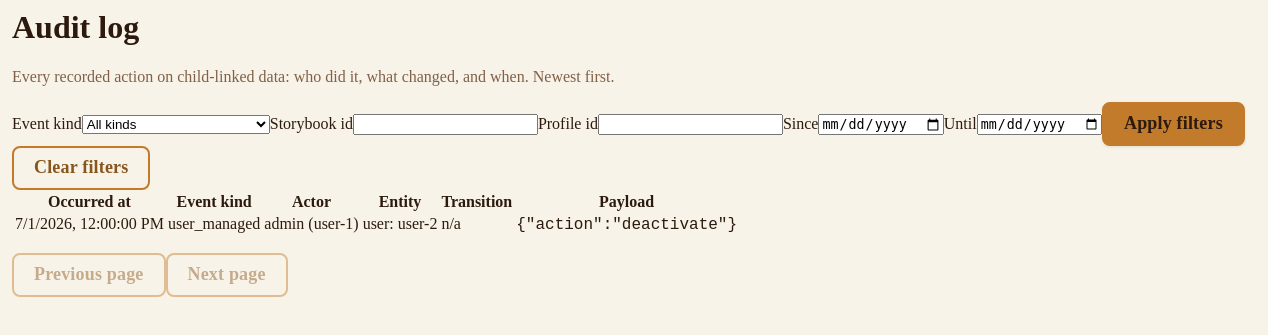
Test: AuditPage › keeps the last page visible while a subsequent filter change is loading
Expected: the text "user_managed" is shown, [167,214,261,235]
Select "book_assigned" in the dropdown named "filter by event kind" at {"x": 176, "y": 125}, box [82,115,270,134]
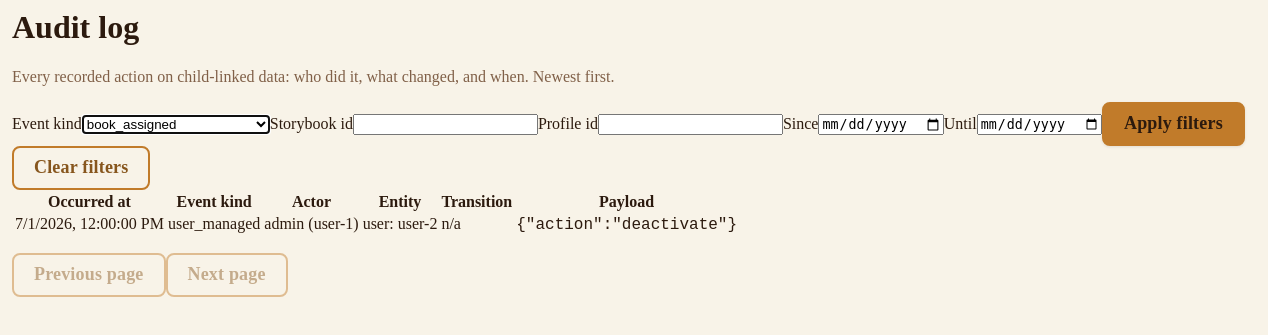
Click the button "Apply filters" at {"x": 1173, "y": 124}, box [1102,102,1245,146]
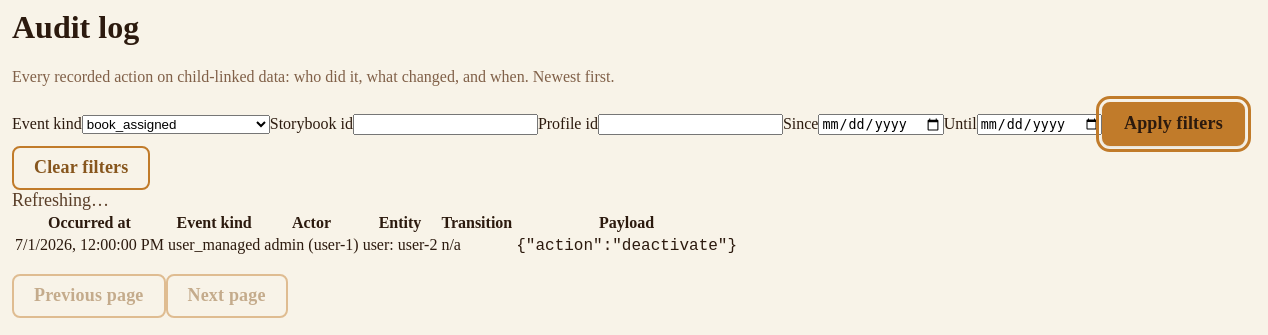
Expected: the text "user_managed" is shown, [167,235,261,256]
Now the text "Refreshing…" is shown, box [12,190,109,210]
